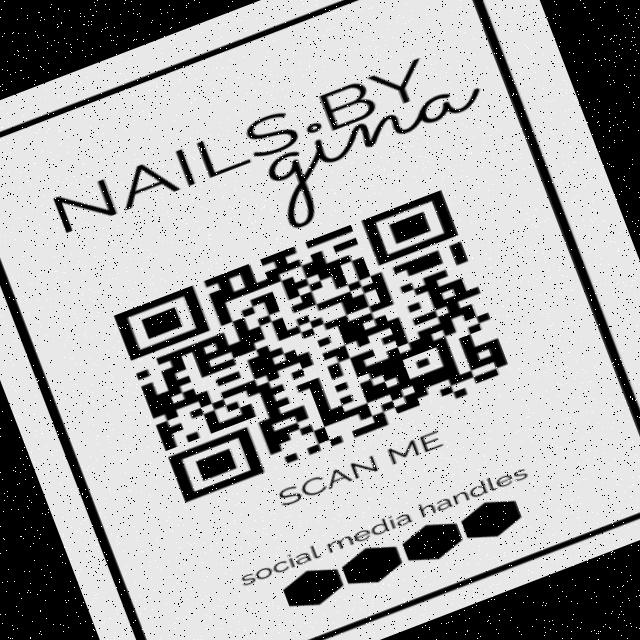QR-codes: (112, 186, 514, 504)
